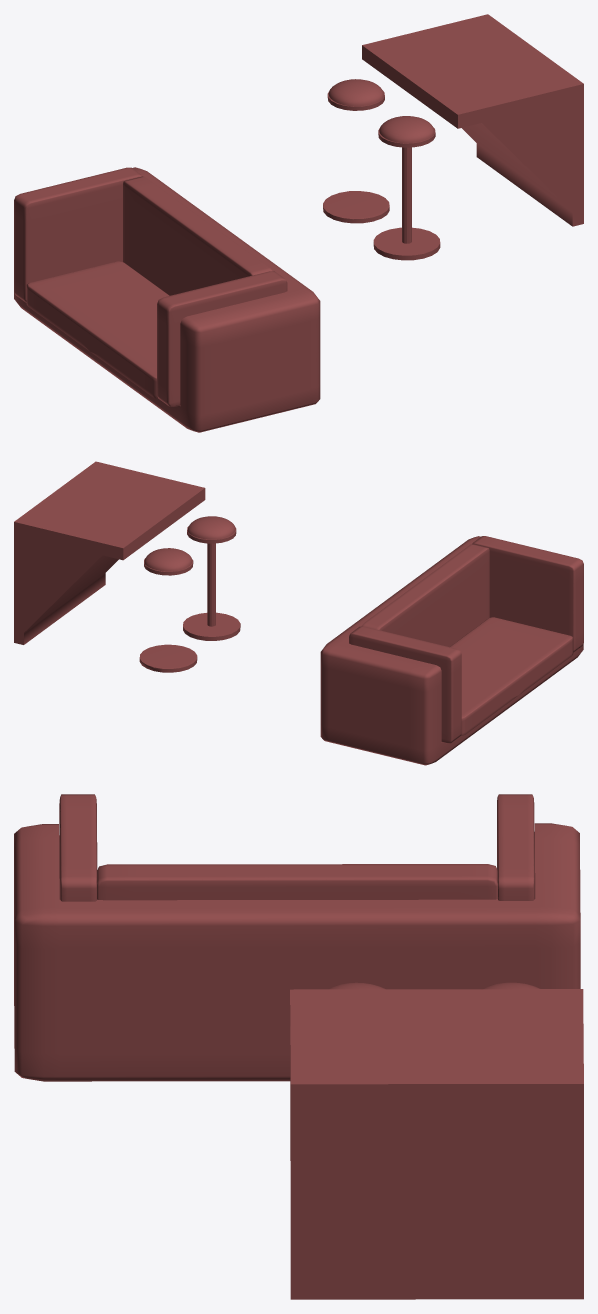
The model's file is more export.fbx.
3 views of the same model, one above another, from view 1: azimuth 30°, elevation 25°; view 2: azimuth 150°, elevation 25°; view 3: azimuth 270°, elevation 25° (orthographic). The views are drawn at different scales.
Visible parts, largest first — view 1: bar_table_thingy_but_triangle, polySurface4, polySurface1, polySurface5, polySurface2, bar, polySurface3___; view 2: bar_table_thingy_but_triangle, polySurface4, polySurface1, polySurface3___, polySurface2, bar, polySurface5; view 3: bar_table_thingy_but_triangle, polySurface4, polySurface2, polySurface3___, polySurface5.
Part boxes in pixels (x1,y1,x2,y2): bar_table_thingy_but_triangle: (362,14,583,226); polySurface4: (14,167,320,432); polySurface1: (26,261,169,398); polySurface5: (14,167,142,302); polySurface2: (123,176,272,295); bar: (323,79,440,260); polySurface3___: (157,271,287,406); bar_table_thingy_but_triangle: (14,461,205,644); polySurface4: (320,536,583,765); polySurface1: (450,617,573,735); polySurface3___: (472,536,583,652); polySurface2: (362,544,489,646); bar: (139,516,240,672); polySurface5: (349,626,461,743); bar_table_thingy_but_triangle: (290,989,583,1299); polySurface4: (14,823,580,1081); polySurface2: (97,864,497,900); polySurface3___: (59,794,97,901); polySurface5: (497,794,534,900).
Bounding box in the file's own units: 237 × 78.77 × 155.
